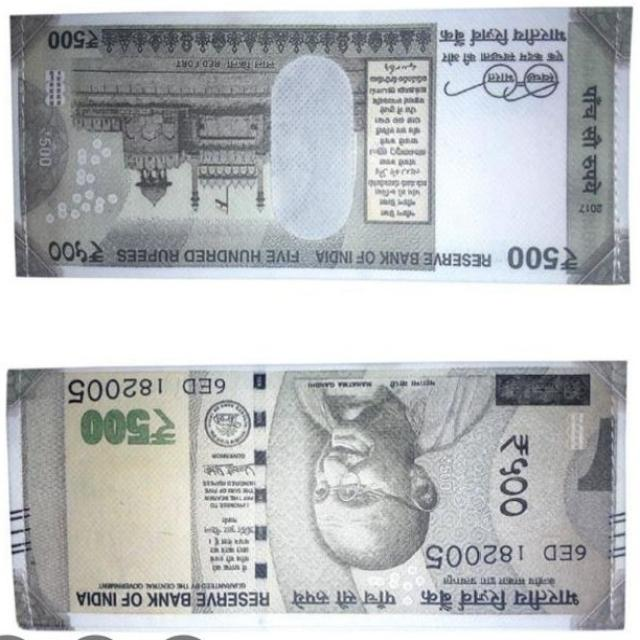500IndianRupees: (12, 13, 629, 281)
